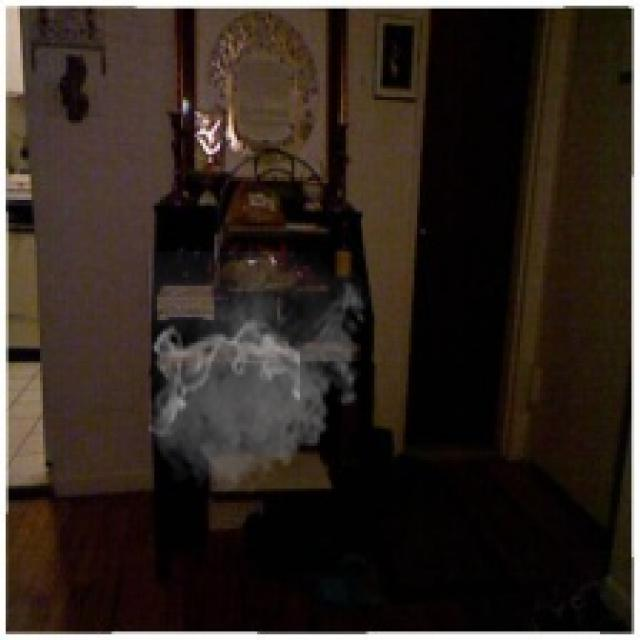smoke: (146, 251, 371, 503)
